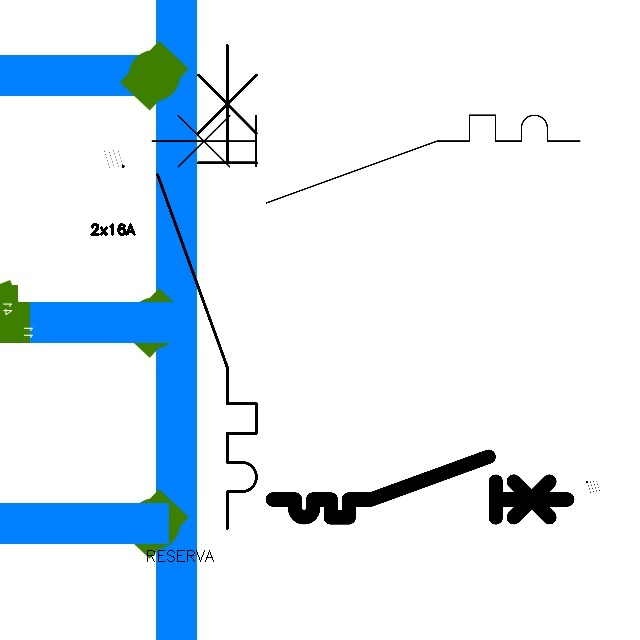interruptor_termomagnetico: (145, 33, 269, 541), (140, 104, 590, 214), (265, 449, 575, 525)
